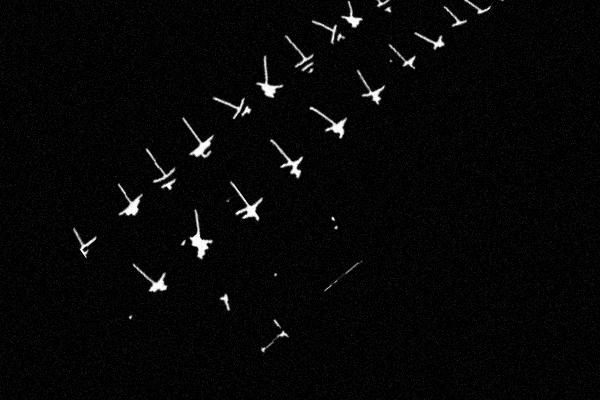ground: (229, 184, 278, 236), (178, 121, 226, 172), (109, 183, 156, 231), (144, 156, 189, 203), (273, 143, 317, 191), (317, 105, 360, 151), (287, 42, 327, 86), (179, 223, 219, 266), (138, 262, 178, 304), (357, 75, 396, 117), (251, 66, 289, 108), (224, 92, 260, 130), (74, 227, 109, 264), (319, 18, 352, 55), (394, 44, 427, 81), (337, 3, 370, 38), (422, 28, 455, 63), (444, 7, 475, 39), (120, 302, 145, 333), (470, 0, 499, 25), (371, 0, 400, 23), (485, 0, 513, 13), (391, 0, 417, 7)
